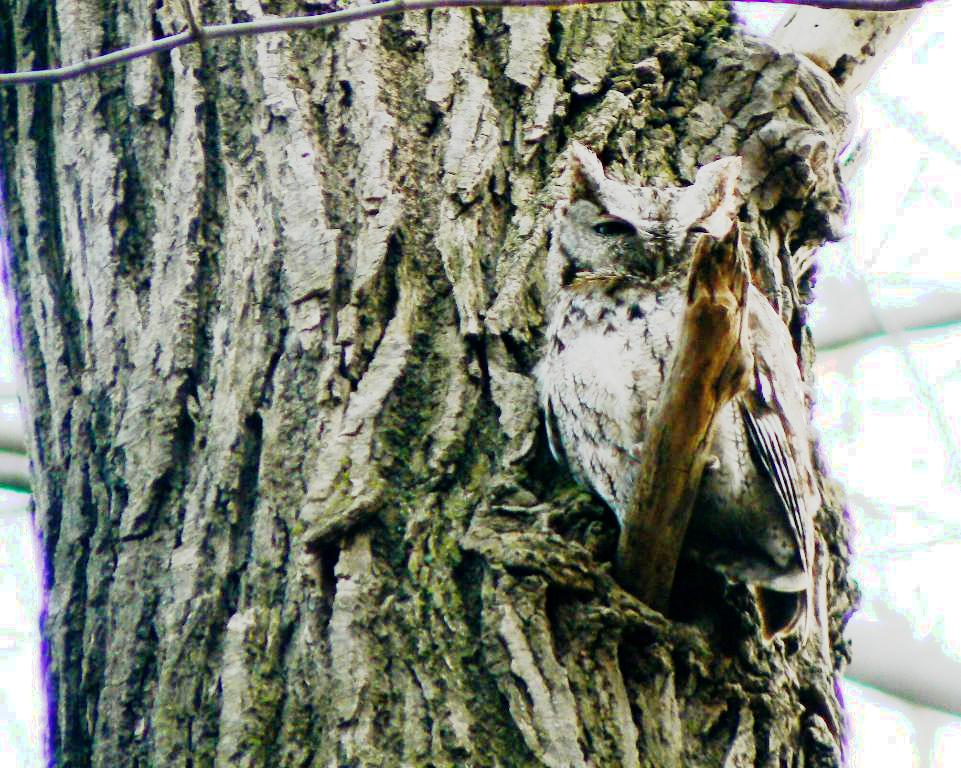Owl: (540, 140, 833, 665)
